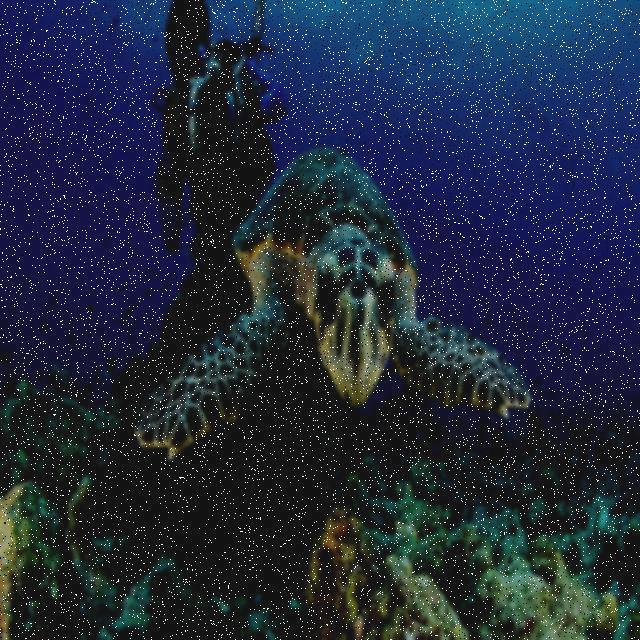tortoise: (106, 145, 538, 471)
